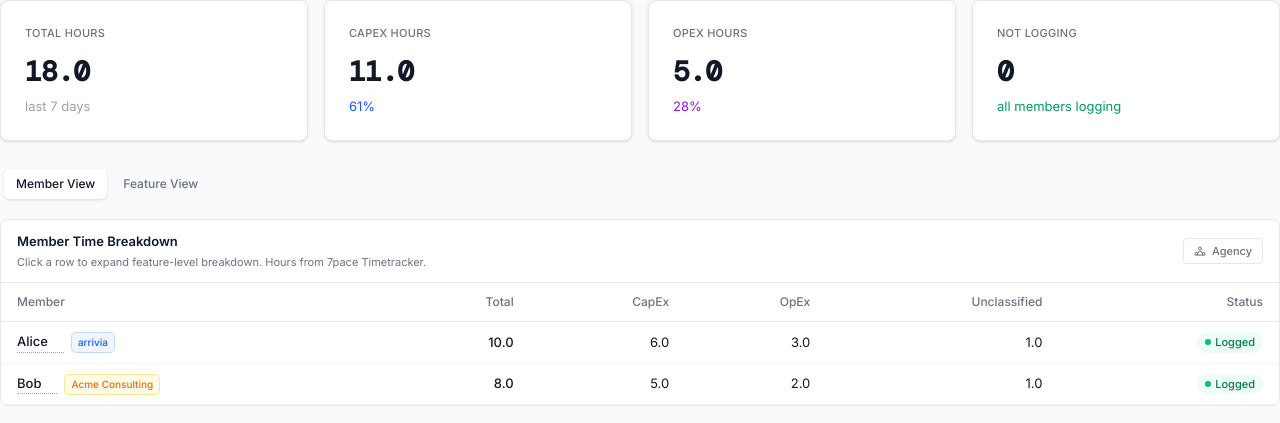
Test: TimeTrackingTab — agency filter dropdown › shows count badge on button when filters active
The width and height of the screenshot is (1280, 423).
Expected: the heading "Member Time Breakdown" is shown, [17,233,178,249]
Click the button "Agency" at (1223, 251), box [1183,238,1263,264]
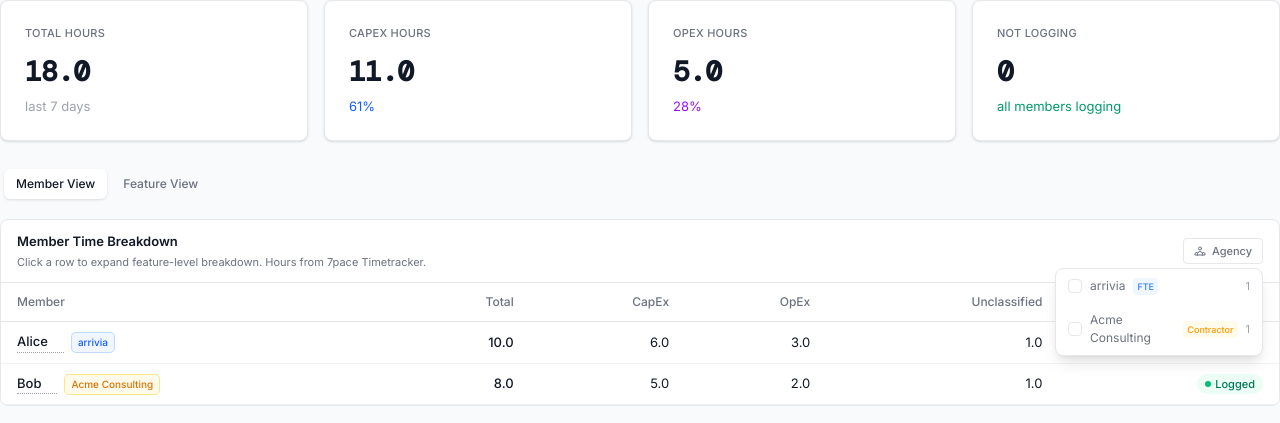
Click the menu item "arrivia FTE 1" at (1159, 286), box [1056,269,1262,303]
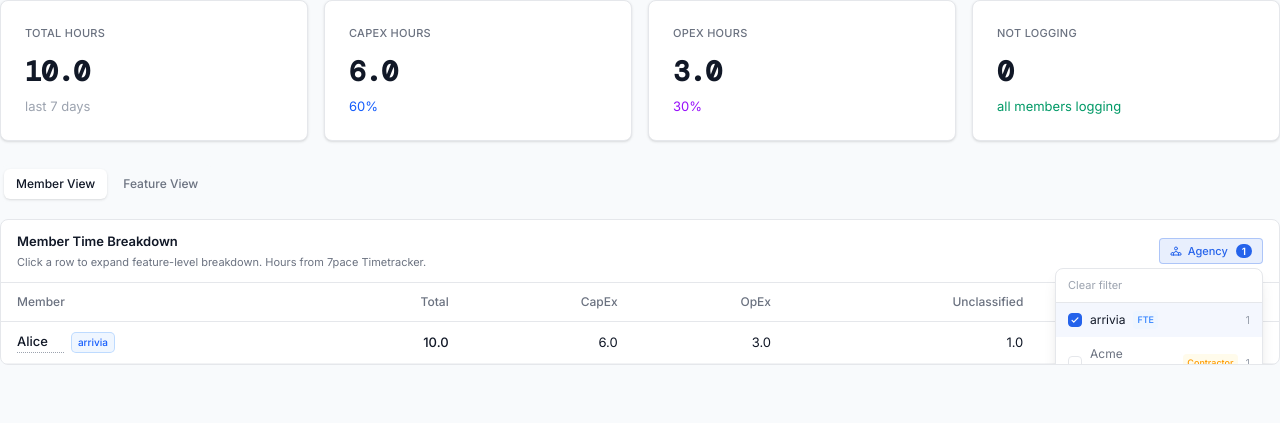
Now the button "Agency 1" is shown, box [1159,238,1263,264]
